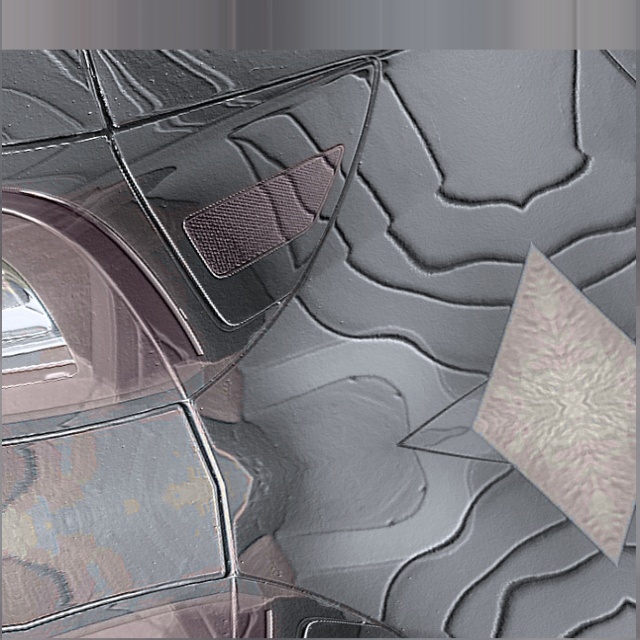reflector: (170, 143, 370, 283)
